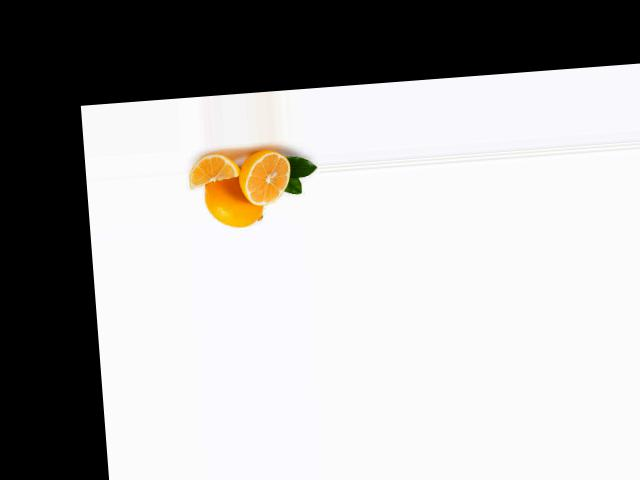lemon: (200, 167, 268, 230)
